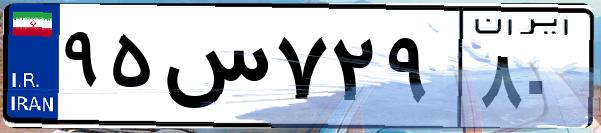0: (525, 38, 570, 115)
2: (330, 28, 385, 110)
5: (110, 28, 158, 98)
7: (270, 28, 330, 110)
8: (475, 38, 525, 113)
9: (385, 28, 445, 110), (57, 26, 110, 100)
س: (158, 20, 270, 120)
